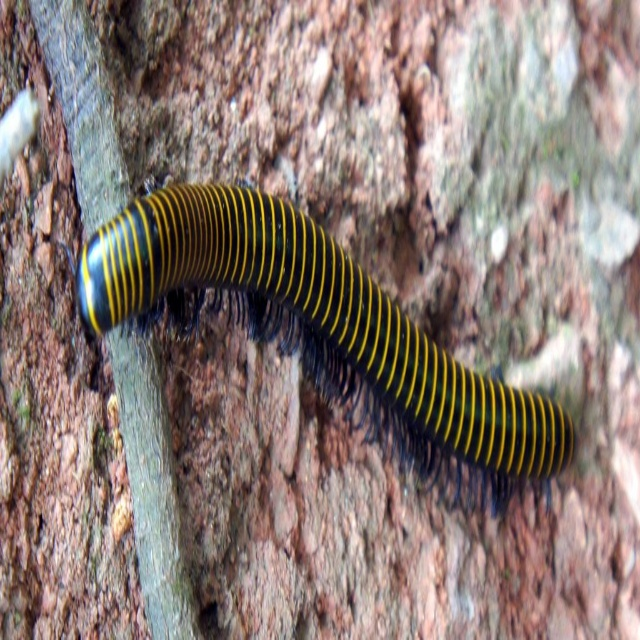Caterpillar: (57, 182, 579, 484)
